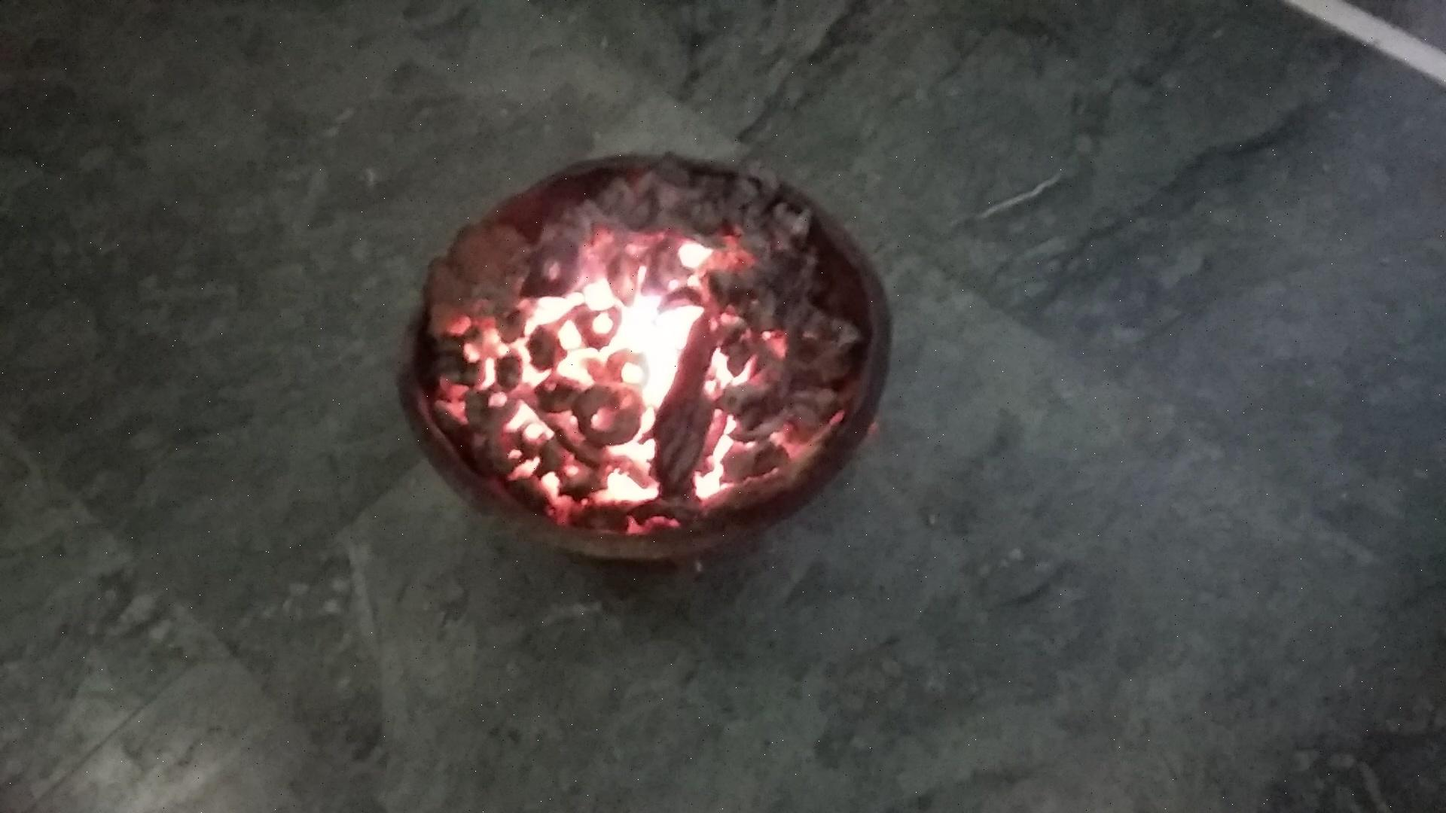fire: (441, 196, 795, 516)
